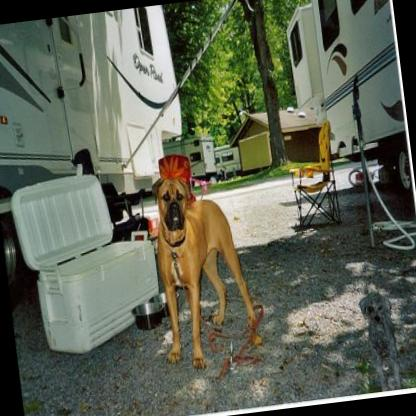bull_mastiff: (142, 164, 266, 376)
